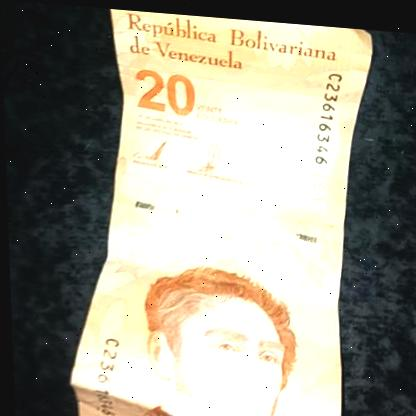vef_front: (50, 7, 378, 416)
